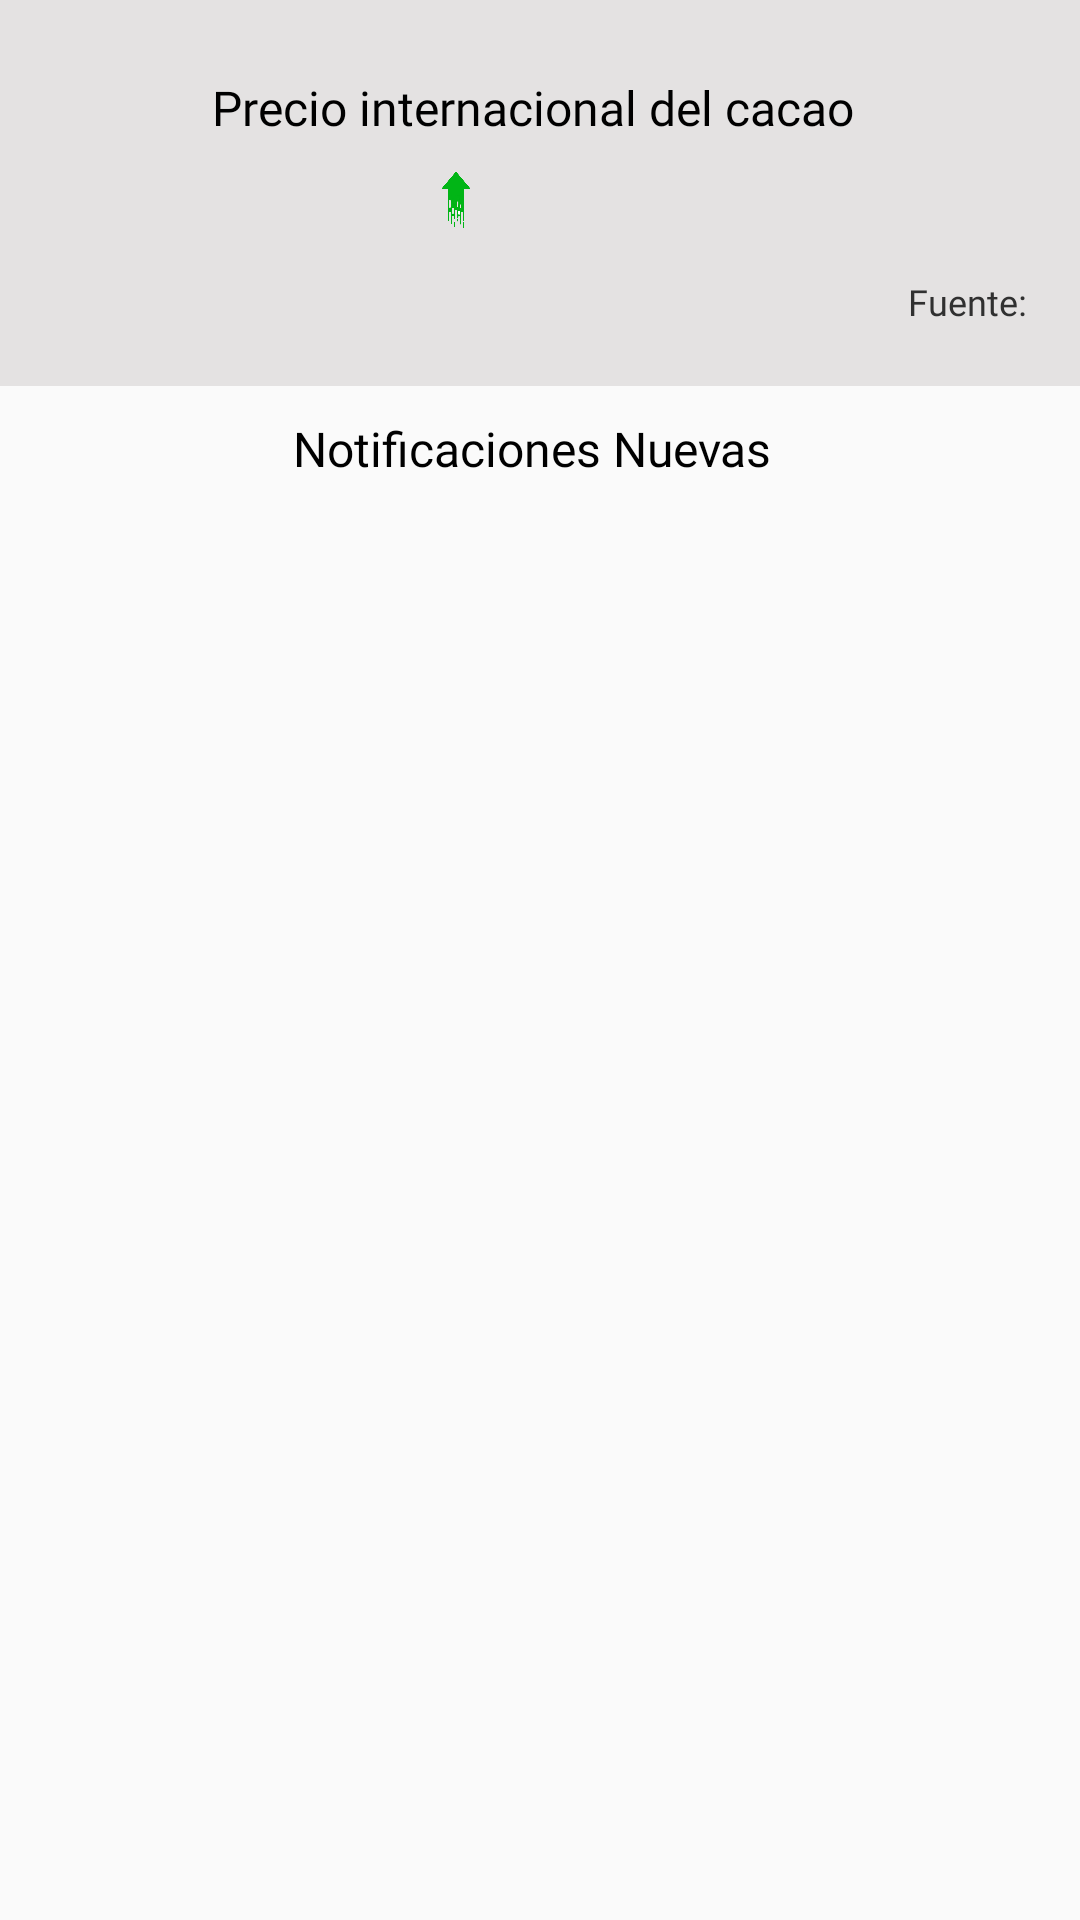

Named icons in this screenshot (1080x1920) and their centers, point (x, y):
arriba: point (456, 200)
